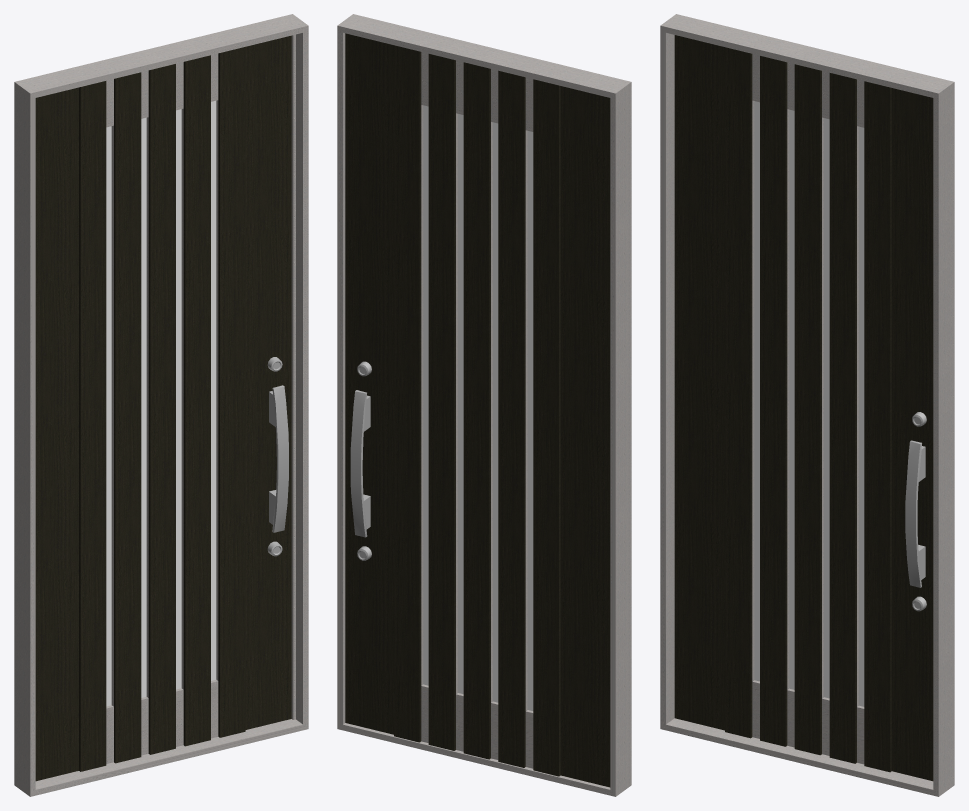
Rendered from SM_FrontDoor_5.fbx.
3 renders of one model, left to right at view 1: azimuth 30°, elevation 25°; view 2: azimuth 150°, elevation 25°; view 3: azimuth 330°, elevation 25°, orthographic.
Parts seen in each view (by area): view 1: js03.010; view 2: js03.010; view 3: js03.010.
Boxes of the visible parts, bbox=[...] form: js03.010: bbox=[14, 14, 308, 796]; js03.010: bbox=[337, 14, 631, 796]; js03.010: bbox=[660, 14, 954, 796].
Size of the model in its own units: 1.01 by 2.44 by 0.1596.
4 materials, 2 textured.
